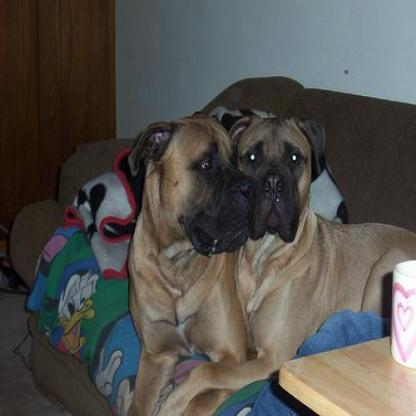bull_mastiff: (158, 116, 414, 413), (127, 110, 259, 413)
